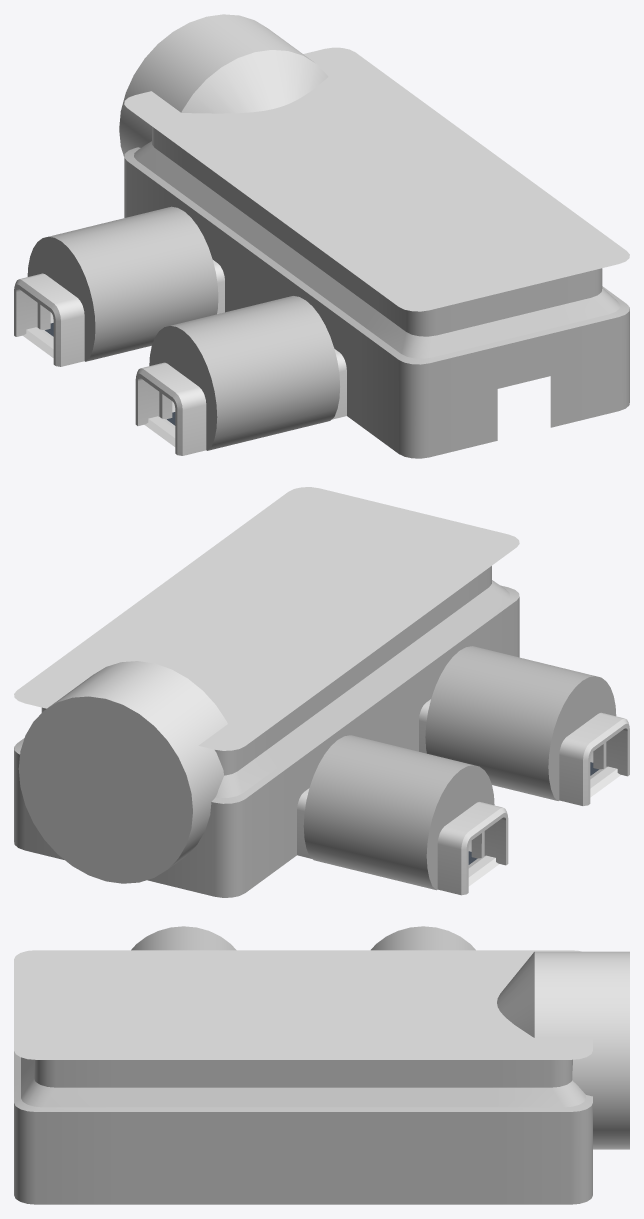
Rendered from SM_Ship_Overgrown.001.fbx.
The picture shows the model from 3 angles, top to bottom: view 1: azimuth 30°, elevation 25°; view 2: azimuth 150°, elevation 25°; view 3: azimuth 270°, elevation 25°; orthographic projection.
Parts seen in each view (by area): view 1: SM_Ship_Overgrown.001; view 2: SM_Ship_Overgrown.001; view 3: SM_Ship_Overgrown.001.
Part boxes in pixels (box(x1,y1,x2,y2)): SM_Ship_Overgrown.001: box(14, 14, 629, 458); SM_Ship_Overgrown.001: box(14, 487, 629, 897); SM_Ship_Overgrown.001: box(14, 926, 629, 1204).
Bounding box in the file's own units: 4504 × 2068 × 6170.
